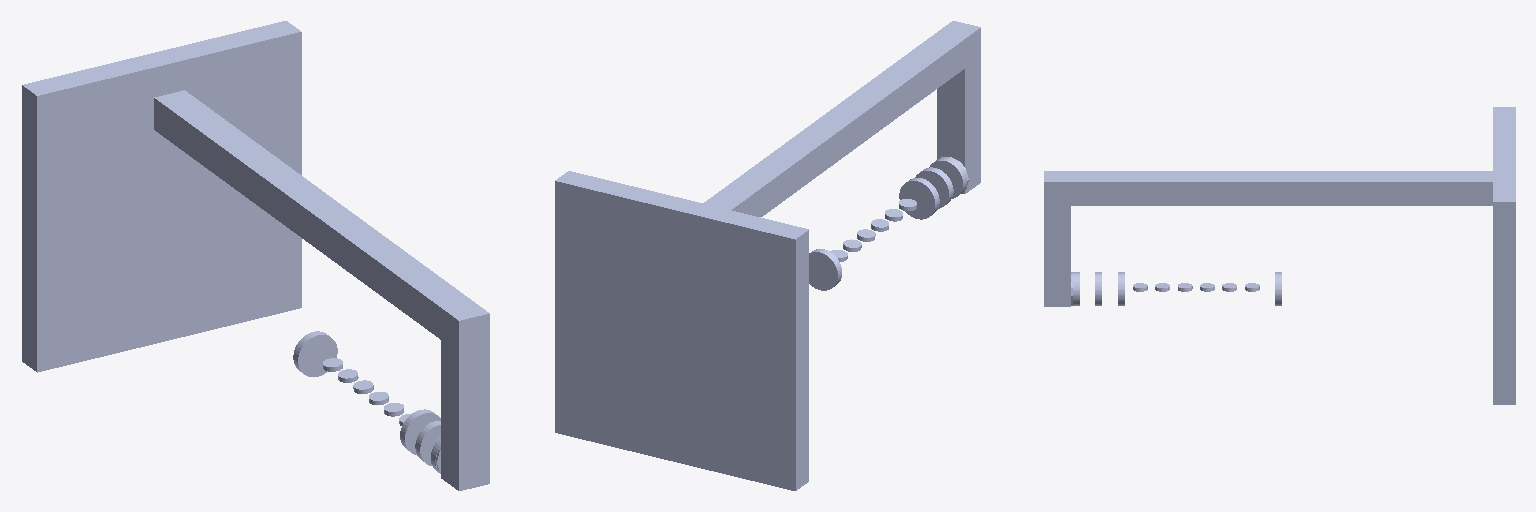
--- Render facts (derived) ---
Views: 3 orthographic renders of the robot side by side, from view 1: azimuth 30°, elevation 25°; view 2: azimuth 150°, elevation 25°; view 3: azimuth 270°, elevation 25°.
Model softactuator with 12 links and 11 joints (11 revolute), rooted at base_link, posed all joints at 0.
Visible links, largest first — view 1: base_link, sec10, sec03, sec02; view 2: base_link, sec10, sec03, sec01, sec02; view 3: base_link.
Boxes of the visible links, x1,y1,x2,y2 form: base_link: (22,21,489,490); sec10: (293,331,337,376); sec03: (400,409,440,454); sec02: (415,421,440,465); base_link: (555,21,980,490); sec10: (809,249,841,290); sec03: (899,178,939,219); sec01: (929,157,966,198); sec02: (915,167,953,208); base_link: (1044,107,1515,404).
Size in the robot's own frame: 0.3 by 0.63 by 0.3 metres.
Meshes: 12 distinct files referenced, 11 mesh visuals loaded (11 binary STL); not drawn: 1 (reference not matched to a file when rendering).

robot.urdf — softactuator:
<?xml version="1.0" encoding="utf-8"?>
<!-- This URDF was automatically created by SolidWorks to URDF Exporter! Originally created by Stephen Brawner ([email redacted]) 
     Commit Version: 1.6.0-1-g15f4949  Build Version: 1.6.7594.29634
     For more information, please see http://wiki.ros.org/sw_urdf_exporter -->
<robot
  name="softactuator">
  <link
    name="base_link">
    <inertial>
      <origin
        xyz="-1.2663E-17 0.0206 0.10996"
        rpy="0 1 0" />
      <mass
        value="3.6235" />
      <inertia
        ixx="0.15623"
        ixy="1.4868E-18"
        ixz="-4.0692E-17"
        iyy="0.15007"
        iyz="-0.016753"
        izz="0.046849" />
    </inertial>
    <visual>
      <origin
        xyz="0 0 0"
        rpy="0 0 0" />
      <geometry>
        <mesh
          filename="package://softactuator/meshes/base_link.STL" />
      </geometry>
      <material
        name="">
        <color
          rgba="0.79216 0.81961 0.93333 1" />
      </material>
    </visual>
    <collision>
      <origin
        xyz="0 0 0"
        rpy="0 0 0" />
      <geometry>
        <mesh
          filename="package://softactuator/meshes/base_link.STL" />
      </geometry>
    </collision>
  </link>
  <link
    name="sec01">
    <inertial>
      <origin
        xyz="9.10729824887824E-18 -3.46944695195361E-17 0.00475000000000003"
        rpy="0 0 0" />
      <mass
        value="0.0151090971683583" />
      <inertia
        ixx="2.02587811199071E-06"
        ixy="5.29395592033938E-23"
        ixz="3.34400831663348E-23"
        iyy="2.02587811199071E-06"
        iyz="-2.43179067269129E-24"
        izz="3.8244902207407E-06" />
    </inertial>
    <visual>
      <origin
        xyz="0 0 0"
        rpy="0 0 0" />
      <geometry>
        <mesh
          filename="package://softactuator/meshes/sec01.STL" />
      </geometry>
      <material
        name="">
        <color
          rgba="0.792156862745098 0.819607843137255 0.933333333333333 1" />
      </material>
    </visual>
    <collision>
      <origin
        xyz="0 0 0"
        rpy="0 0 0" />
      <geometry>
        <mesh
          filename="package://softactuator/meshes/sec01.STL" />
      </geometry>
    </collision>
  </link>
  <!--
    <link name="dummy" type="fixed"/>  
	<joint name="dummy_to_base_link=" type="fixed">  
	<origin
        xyz="0 0 0"
        rpy="0 0 0" />
    	<parent link="dummy"/>  
     	<child link="base_link"/>  
	</joint>
	-->

  <joint
    name="joint01"
    type="revolute">
    <origin
      xyz="0 -0.5825 -0.049051"
      rpy="1.5708 -0.072593 0" />
    <parent
      link="base_link" />
    <child
      link="sec01" />
    <axis
      xyz="0 0 1" />
      <!-- -->
    <limit
      lower="-1.57"
      upper="1.57"
      effort="100"
      velocity="500" />
  </joint>
  <link
    name="sec02">
    <inertial>
      <origin
        xyz="9.10729824887824E-18 -3.46944695195361E-17 -0.00475000000000003"
        rpy="0 0 0" />
      <mass
        value="0.0151090971683583" />
      <inertia
        ixx="2.02587811199071E-06"
        ixy="5.29395592033938E-23"
        ixz="3.34400831663348E-23"
        iyy="2.02587811199071E-06"
        iyz="-2.43179067269129E-24"
        izz="3.8244902207407E-06" />
    </inertial>
    <visual>
      <origin
        xyz="0 0 0"
        rpy="0 0 0" />
      <geometry>
        <mesh
          filename="package://softactuator/meshes/sec02.STL" />
      </geometry>
      <material
        name="">
        <color
          rgba="0.792156862745098 0.819607843137255 0.933333333333333 1" />
      </material>
    </visual>
    <collision>
      <origin
        xyz="0 0 0"
        rpy="0 0 0" />
      <geometry>
        <mesh
          filename="package://softactuator/meshes/sec02.STL" />
      </geometry>
    </collision>
  </link>
  <joint
    name="joint02"
    type="revolute">
    <origin
      xyz="0 0 -0.0205"
      rpy="0 0 0" />
    <parent
      link="sec01" />
    <child
      link="sec02" />
    <axis
      xyz="0 1 0" />
      <!-- -->
    <limit
      lower="-1.57"
      upper="1.57"
      effort="100"
      velocity="500" />
  </joint>
  <link
    name="sec03">
    <inertial>
      <origin
        xyz="9.10729824887824E-18 -3.46944695195361E-17 -0.00524999999999998"
        rpy="0 0 0" />
      <mass
        value="0.0151090971683583" />
      <inertia
        ixx="2.02587811199071E-06"
        ixy="5.29395592033938E-23"
        ixz="3.34400831663348E-23"
        iyy="2.02587811199071E-06"
        iyz="-2.43179067269129E-24"
        izz="3.8244902207407E-06" />
    </inertial>
    <visual>
      <origin
        xyz="0 0 0"
        rpy="0 0 0" />
      <geometry>
        <mesh
          filename="package://softactuator/meshes/sec03.STL" />
      </geometry>
      <material
        name="">
        <color
          rgba="0.792156862745098 0.819607843137255 0.933333333333333 1" />
      </material>
    </visual>
    <collision>
      <origin
        xyz="0 0 0"
        rpy="0 0 0" />
      <geometry>
        <mesh
          filename="package://softactuator/meshes/sec03.STL" />
      </geometry>
    </collision>
  </link>
  <joint
    name="joint03"
    type="revolute">
    <origin
      xyz="0 0 -0.0295"
      rpy="0 0 0" />
    <parent
      link="sec02" />
    <child
      link="sec03" />
    <axis
      xyz="0 1 0" />
      <!-- -->
    <limit
      lower="-1.57"
      upper="1.57"
      effort="100"
      velocity="500" />
  </joint>
  <link
    name="sec04">
    <inertial>
      <origin
        xyz="9.10729824887824E-18 -3.46944695195361E-17 -0.00474999999999998"
        rpy="0 0 0" />
      <mass
        value="0.0151090971683583" />
      <inertia
        ixx="2.02587811199071E-06"
        ixy="5.29395592033938E-23"
        ixz="-9.0526433996975E-39"
        iyy="2.02587811199071E-06"
        iyz="-2.17386507914307E-39"
        izz="3.8244902207407E-06" />
    </inertial>
    <visual>
      <origin
        xyz="0 0 0"
        rpy="0 0 0" />
      <geometry>
        <mesh
          filename="package://softactuator/meshes/sec04.STL" />
      </geometry>
      <material
        name="">
        <color
          rgba="0.792156862745098 0.819607843137255 0.933333333333333 1" />
      </material>
    </visual>
    <collision>
      <origin
        xyz="0 0 0"
        rpy="0 0 0" />
      <geometry>
        <mesh
          filename="package://softactuator/meshes/sec04.STL" />
      </geometry>
    </collision>
  </link>
  <joint
    name="joint04"
    type="revolute">
    <origin
      xyz="0 0 -0.0305"
      rpy="0 0 0" />
    <parent
      link="sec03" />
    <child
      link="sec04" />
    <axis
      xyz="0 1 0" />
      <!-- -->
    <limit
      lower="-1.57"
      upper="1.57"
      effort="100"
      velocity="500" />
  </joint>
  <link
    name="sec05">
    <inertial>
      <origin
        xyz="9.10729824887824E-18 -3.46944695195361E-17 -0.00475000000000003"
        rpy="0 0 0" />
      <mass
        value="0.0151090971683584" />
      <inertia
        ixx="2.02587811199073E-06"
        ixy="5.29395592033938E-23"
        ixz="1.80482279854177E-37"
        iyy="2.02587811199073E-06"
        iyz="-1.87114583269484E-38"
        izz="3.82449022074073E-06" />
    </inertial>
    <visual>
      <origin
        xyz="0 0 0"
        rpy="0 0 0" />
      <geometry>
        <mesh
          filename="package://softactuator/meshes/sec05.STL" />
      </geometry>
      <material
        name="">
        <color
          rgba="0.792156862745098 0.819607843137255 0.933333333333333 1" />
      </material>
    </visual>
    <collision>
      <origin
        xyz="0 0 0"
        rpy="0 0 0" />
      <geometry>
        <mesh
          filename="package://softactuator/meshes/sec05.STL" />
      </geometry>
    </collision>
  </link>
  <joint
    name="joint05"
    type="revolute">
    <origin
      xyz="0 0 -0.03"
      rpy="0 0 0" />
    <parent
      link="sec04" />
    <child
      link="sec05" />
    <axis
      xyz="0 1 0" />
      <!-- -->
    <limit
      lower="-1.57"
      upper="1.57"
      effort="100"
      velocity="500" />
  </joint>
  <link
    name="sec06">
    <inertial>
      <origin
        xyz="9.10729824887824E-18 -3.46944695195361E-17 -0.00474999999999992"
        rpy="0 0 0" />
      <mass
        value="0.0151090971683584" />
      <inertia
        ixx="2.02587811199073E-06"
        ixy="5.29395592033938E-23"
        ixz="-1.89755064553703E-37"
        iyy="2.02587811199073E-06"
        iyz="1.35103822887091E-38"
        izz="3.82449022074073E-06" />
    </inertial>
    <visual>
      <origin
        xyz="0 0 0"
        rpy="0 0 0" />
      <geometry>
        <mesh
          filename="package://softactuator/meshes/sec06.STL" />
      </geometry>
      <material
        name="">
        <color
          rgba="0.792156862745098 0.819607843137255 0.933333333333333 1" />
      </material>
    </visual>
    <collision>
      <origin
        xyz="0 0 0"
        rpy="0 0 0" />
      <geometry>
        <mesh
          filename="package://softactuator/meshes/sec06.STL" />
      </geometry>
    </collision>
  </link>
  <joint
    name="joint06"
    type="revolute">
    <origin
      xyz="0 0 -0.03"
      rpy="0 0 0" />
    <parent
      link="sec05" />
    <child
      link="sec06" />
    <axis
      xyz="0 1 0" />
      <!-- -->
    <limit
      lower="-1.57"
      upper="1.57"
      effort="100"
      velocity="500" />
  </joint>
  <link
    name="sec07">
    <inertial>
      <origin
        xyz="9.10729824887824E-18 -3.46944695195361E-17 -0.00474999999999992"
        rpy="0 0 0" />
      <mass
        value="0.0151090971683584" />
      <inertia
        ixx="2.02587811199073E-06"
        ixy="5.29395592033938E-23"
        ixz="-1.89755064553703E-37"
        iyy="2.02587811199073E-06"
        iyz="1.35103822887091E-38"
        izz="3.82449022074073E-06" />
    </inertial>
    <visual>
      <origin
        xyz="0 0 0"
        rpy="0 0 0" />
      <geometry>
        <mesh
          filename="package://softactuator/meshes/sec07.STL" />
      </geometry>
      <material
        name="">
        <color
          rgba="0.792156862745098 0.819607843137255 0.933333333333333 1" />
      </material>
    </visual>
    <collision>
      <origin
        xyz="0 0 0"
        rpy="0 0 0" />
      <geometry>
        <mesh
          filename="package://softactuator/meshes/sec07.STL" />
      </geometry>
    </collision>
  </link>
  <joint
    name="joint07"
    type="revolute">
    <origin
      xyz="0 0 -0.03"
      rpy="0 0 0" />
    <parent
      link="sec06" />
    <child
      link="sec07" />
    <axis
      xyz="0 1 0" />
      <!-- -->
    <limit
      lower="-1.57"
      upper="1.57"
      effort="100"
      velocity="500" />
  </joint>
  <link
    name="sec08">
    <inertial>
      <origin
        xyz="9.10729824887824E-18 -3.46944695195361E-17 -0.00474999999999992"
        rpy="0 0 0" />
      <mass
        value="0.0151090971683584" />
      <inertia
        ixx="2.02587811199073E-06"
        ixy="5.29395592033938E-23"
        ixz="-1.89755064553703E-37"
        iyy="2.02587811199073E-06"
        iyz="1.35103822887091E-38"
        izz="3.82449022074073E-06" />
    </inertial>
    <visual>
      <origin
        xyz="0 0 0"
        rpy="0 0 0" />
      <geometry>
        <mesh
          filename="package://softactuator/meshes/sec08.STL" />
      </geometry>
      <material
        name="">
        <color
          rgba="0.792156862745098 0.819607843137255 0.933333333333333 1" />
      </material>
    </visual>
    <collision>
      <origin
        xyz="0 0 0"
        rpy="0 0 0" />
      <geometry>
        <mesh
          filename="package://softactuator/meshes/sec08.STL" />
      </geometry>
    </collision>
  </link>
  <joint
    name="joint08"
    type="revolute">
    <origin
      xyz="0 0 -0.03"
      rpy="0 0 0" />
    <parent
      link="sec07" />
    <child
      link="sec08" />
    <axis
      xyz="0 1 0" />
      <!-- -->
    <limit
      lower="-1.57"
      upper="1.57"
      effort="100"
      velocity="500" />
  </joint>
  <link
    name="sec09">
    <inertial>
      <origin
        xyz="9.10729824887824E-18 -3.46944695195361E-17 -0.00474999999999998"
        rpy="0 0 0" />
      <mass
        value="0.0151090971683584" />
      <inertia
        ixx="2.02587811199073E-06"
        ixy="5.29395592033938E-23"
        ixz="1.80482279854177E-37"
        iyy="2.02587811199073E-06"
        iyz="-1.87114583269484E-38"
        izz="3.82449022074073E-06" />
    </inertial>
    <visual>
      <origin
        xyz="0 0 0"
        rpy="0 0 0" />
      <geometry>
        <mesh
          filename="package://softactuator/meshes/sec09.STL" />
      </geometry>
      <material
        name="">
        <color
          rgba="0.792156862745098 0.819607843137255 0.933333333333333 1" />
      </material>
    </visual>
    <collision>
      <origin
        xyz="0 0 0"
        rpy="0 0 0" />
      <geometry>
        <mesh
          filename="package://softactuator/meshes/sec09.STL" />
      </geometry>
    </collision>
  </link>
  <joint
    name="joint09"
    type="revolute">
    <origin
      xyz="0 0 -0.03"
      rpy="0 0 0" />
    <parent
      link="sec08" />
    <child
      link="sec09" />
    <axis
      xyz="0 1 0" />
      <!-- -->
    <limit
      lower="-1.57"
      upper="1.57"
      effort="100"
      velocity="500" />
  </joint>
  <link
    name="sec10">
    <inertial>
      <origin
        xyz="9.10729824887824E-18 -3.46944695195361E-17 -0.00474999999999992"
        rpy="0 0 0" />
      <mass
        value="0.0151090971683584" />
      <inertia
        ixx="2.02587811199073E-06"
        ixy="5.29395592033938E-23"
        ixz="-1.89755064553703E-37"
        iyy="2.02587811199073E-06"
        iyz="1.35103822887091E-38"
        izz="3.82449022074073E-06" />
    </inertial>
    <visual>
      <origin
        xyz="0 0 0"
        rpy="0 0 0" />
      <geometry>
        <mesh
          filename="package://softactuator/meshes/sec10.STL" />
      </geometry>
      <material
        name="">
        <color
          rgba="0.792156862745098 0.819607843137255 0.933333333333333 1" />
      </material>
    </visual>
    <collision>
      <origin
        xyz="0 0 0"
        rpy="0 0 0" />
      <geometry>
        <mesh
          filename="package://softactuator/meshes/sec10.STL" />
      </geometry>
    </collision>
  </link>
  <joint
    name="joint10"
    type="revolute">
    <origin
      xyz="0 0 -0.03"
      rpy="0 0 0" />
    <parent
      link="sec09" />
    <child
      link="sec10" />
    <axis
      xyz="0 1 0" />
      <!-- -->
    <limit
      lower="-1.57"
      upper="1.57"
      effort="100"
      velocity="500" />
  </joint>
  <link
    name="sec11">
    <inertial>
      <origin
        xyz="9.10729824887824E-18 -3.46944695195361E-17 -0.00474999999999992"
        rpy="0 0 0" />
      <mass
        value="0.0151090971683584" />
      <inertia
        ixx="2.02587811199073E-06"
        ixy="5.29395592033938E-23"
        ixz="-1.89755064553703E-37"
        iyy="2.02587811199073E-06"
        iyz="1.35103822887091E-38"
        izz="3.82449022074073E-06" />
    </inertial>
    <visual>
      <origin
        xyz="0 0 0"
        rpy="0 0 0" />
      <geometry>
        <mesh
          filename="package://softactuator/meshes/sec11.STL" />
      </geometry>
      <material
        name="">
        <color
          rgba="0.792156862745098 0.819607843137255 0.933333333333333 1" />
      </material>
    </visual>
    <collision>
      <origin
        xyz="0 0 0"
        rpy="0 0 0" />
      <geometry>
        <mesh
          filename="package://softactuator/meshes/sec11.STL" />
      </geometry>
    </collision>
  </link>
  <joint
    name="joint11"
    type="revolute">
    <origin
      xyz="0 0 -0.03"
      rpy="0 0 0" />
    <parent
      link="sec10" />
    <child
      link="sec11" />
    <axis
      xyz="0 1 0" />
      <!-- -->
    <limit
      lower="-1.57"
      upper="1.57"
      effort="100"
      velocity="500" />
  </joint>
    
  

<!--transmission definition -->
<transmission name="tran01">
    <type>transmission_interface/SimpleTransmission</type>
    <joint name="joint01">
      <hardwareInterface>hardware_interface/EffortJointInterface</hardwareInterface>
    </joint>
    <actuator name="motor01">
      <hardwareInterface>hardware_interface/EffortJointInterface</hardwareInterface>
      <mechanicalReduction>1</mechanicalReduction>
    </actuator>
  </transmission>
  
  <transmission name="tran02">
    <type>transmission_interface/SimpleTransmission</type>
    <joint name="joint02">
      <hardwareInterface>hardware_interface/EffortJointInterface</hardwareInterface>
    </joint>
    <actuator name="motor02">
      <hardwareInterface>hardware_interface/EffortJointInterface</hardwareInterface>
      <mechanicalReduction>1</mechanicalReduction>
    </actuator>
  </transmission>
  
  <transmission name="tran03">
    <type>transmission_interface/SimpleTransmission</type>
    <joint name="joint03">
      <hardwareInterface>hardware_interface/EffortJointInterface</hardwareInterface>
    </joint>
    <actuator name="motor03">
      <hardwareInterface>hardware_interface/EffortJointInterface</hardwareInterface>
      <mechanicalReduction>1</mechanicalReduction>
    </actuator>
  </transmission>
  
  <transmission name="tran04">
    <type>transmission_interface/SimpleTransmission</type>
    <joint name="joint04">
      <hardwareInterface>hardware_interface/EffortJointInterface</hardwareInterface>
    </joint>
    <actuator name="motor04">
      <hardwareInterface>hardware_interface/EffortJointInterface</hardwareInterface>
      <mechanicalReduction>1</mechanicalReduction>
    </actuator>
  </transmission>
  
  <transmission name="tran05">
    <type>transmission_interface/SimpleTransmission</type>
    <joint name="joint05">
      <hardwareInterface>hardware_interface/EffortJointInterface</hardwareInterface>
    </joint>
    <actuator name="motor05">
      <hardwareInterface>hardware_interface/EffortJointInterface</hardwareInterface>
      <mechanicalReduction>1</mechanicalReduction>
    </actuator>
  </transmission>
  
  <transmission name="tran06">
    <type>transmission_interface/SimpleTransmission</type>
    <joint name="joint06">
      <hardwareInterface>hardware_interface/EffortJointInterface</hardwareInterface>
    </joint>
    <actuator name="motor06">
      <hardwareInterface>hardware_interface/EffortJointInterface</hardwareInterface>
      <mechanicalReduction>1</mechanicalReduction>
    </actuator>
  </transmission>
  
  <transmission name="tran07">
    <type>transmission_interface/SimpleTransmission</type>
    <joint name="joint07">
      <hardwareInterface>hardware_interface/EffortJointInterface</hardwareInterface>
    </joint>
    <actuator name="motor07">
      <hardwareInterface>hardware_interface/EffortJointInterface</hardwareInterface>
      <mechanicalReduction>1</mechanicalReduction>
    </actuator>
  </transmission>
  
  <transmission name="tran08">
    <type>transmission_interface/SimpleTransmission</type>
    <joint name="joint08">
      <hardwareInterface>hardware_interface/EffortJointInterface</hardwareInterface>
    </joint>
    <actuator name="motor08">
      <hardwareInterface>hardware_interface/EffortJointInterface</hardwareInterface>
      <mechanicalReduction>1</mechanicalReduction>
    </actuator>
  </transmission>
  
  <transmission name="tran09">
    <type>transmission_interface/SimpleTransmission</type>
    <joint name="joint09">
      <hardwareInterface>hardware_interface/EffortJointInterface</hardwareInterface>
    </joint>
    <actuator name="motor09">
      <hardwareInterface>hardware_interface/EffortJointInterface</hardwareInterface>
      <mechanicalReduction>1</mechanicalReduction>
    </actuator>
  </transmission>
  
  <transmission name="tran10">
    <type>transmission_interface/SimpleTransmission</type>
    <joint name="joint10">
      <hardwareInterface>hardware_interface/EffortJointInterface</hardwareInterface>
    </joint>
    <actuator name="motor10">
      <hardwareInterface>hardware_interface/EffortJointInterface</hardwareInterface>
      <mechanicalReduction>1</mechanicalReduction>
    </actuator>
  </transmission>
  
  <transmission name="tran11">
    <type>transmission_interface/SimpleTransmission</type>
    <joint name="joint11">
      <hardwareInterface>hardware_interface/EffortJointInterface</hardwareInterface>
    </joint>
    <actuator name="motor11">
      <hardwareInterface>hardware_interface/EffortJointInterface</hardwareInterface>
      <mechanicalReduction>1</mechanicalReduction>
    </actuator>
  </transmission>
  
      <!--cointrol pluging -->
  <gazebo>
  <plugin name="gazebo_ros_control" filename="libgazebo_ros_control.so">

  </plugin>
</gazebo>

<!--
<gazebo reference="sec01">
   <turnGravityOff>true</turnGravityOff>
</gazebo>

<gazebo reference="sec02">
   <turnGravityOff>true</turnGravityOff>
</gazebo>

<gazebo reference="sec03">
   <turnGravityOff>true</turnGravityOff>
</gazebo>

<gazebo reference="sec04">
   <turnGravityOff>true</turnGravityOff>
</gazebo>

<gazebo reference="sec05">
   <turnGravityOff>true</turnGravityOff>
</gazebo>

<gazebo reference="sec06">
   <turnGravityOff>true</turnGravityOff>
</gazebo>

<gazebo reference="sec07">
   <turnGravityOff>true</turnGravityOff>
</gazebo>

<gazebo reference="sec08">
   <turnGravityOff>true</turnGravityOff>
</gazebo>

<gazebo reference="sec09">
   <turnGravityOff>true</turnGravityOff>
</gazebo>

<gazebo reference="sec10">
   <turnGravityOff>true</turnGravityOff>
</gazebo>

<gazebo reference="sec11">
   <turnGravityOff>true</turnGravityOff>
</gazebo>

-->

<!--
<gazebo>
    <plugin name="JointStiffnessPlugin" filename="libsoftactuator.so">
      <joint_name>joint01</joint_name>
      <stiffness>1.11</stiffness>
      <damping>2.8</damping>
    </plugin>
    </gazebo>

    <gazebo>
    <plugin name="JointStiffnessPlugin" filename="libsoftactuator.so">
      <joint_name>joint02</joint_name>
      <stiffness>1.11</stiffness>
      <damping>2.8</damping>
    </plugin>
    </gazebo>

    <gazebo>
    <plugin name="JointStiffnessPlugin" filename="libsoftactuator.so">
      <joint_name>joint03</joint_name>
      <stiffness>1.11</stiffness>
      <damping>2.8</damping>
    </plugin>
    </gazebo>

    <gazebo>
    <plugin name="JointStiffnessPlugin" filename="libsoftactuator.so">
      <joint_name>joint04</joint_name>
      <stiffness>1.11</stiffness>
      <damping>2.8</damping>
    </plugin>
    </gazebo>

    <gazebo>
    <plugin name="JointStiffnessPlugin" filename="libsoftactuator.so">
      <joint_name>joint05</joint_name>
      <stiffness>1.11</stiffness>
      <damping>2.8</damping>
    </plugin>
    </gazebo>

    <gazebo>
    <plugin name="JointStiffnessPlugin" filename="libsoftactuator.so">
      <joint_name>joint06</joint_name>
      <stiffness>1.11</stiffness>
      <damping>2.8</damping>
    </plugin>
    </gazebo>

    <gazebo>
    <plugin name="JointStiffnessPlugin" filename="libsoftactuator.so">
      <joint_name>joint07</joint_name>
      <stiffness>1.11</stiffness>
      <damping>2.8</damping>
    </plugin>
    </gazebo>

    <gazebo>
    <plugin name="JointStiffnessPlugin" filename="libsoftactuator.so">
      <joint_name>joint08</joint_name>
      <stiffness>1.11</stiffness>
      <damping>2.8</damping>
    </plugin>
    </gazebo>

    <gazebo>
    <plugin name="JointStiffnessPlugin" filename="libsoftactuator.so">
      <joint_name>joint09</joint_name>
      <stiffness>1.11</stiffness>
      <damping>2.8</damping>
    </plugin>
    </gazebo>

    <gazebo>
    <plugin name="JointStiffnessPlugin" filename="libsoftactuator.so">
      <joint_name>joint10</joint_name>
      <stiffness>1.11</stiffness>
      <damping>2.8</damping>
    </plugin>
    </gazebo>

    <gazebo>
    <plugin name="JointStiffnessPlugin" filename="libsoftactuator.so">
      <joint_name>joint11</joint_name>
      <stiffness>1.11</stiffness>
      <damping>2.8</damping>
    </plugin>
    </gazebo>-->

    <!--
      <gazebo>
  <plugin name="JointStiffnessPlugin" filename="libsoftactuator.so">
      <joint_name>joint02</joint_name>
      <stiffness>1.11</stiffness>
      <damping>2.8</damping>
       
      <joint_name>joint03</joint_name>
      <stiffness>1.11</stiffness>
      <damping>2.8</damping>
    
      <joint_name>joint04</joint_name>
      <stiffness>1.11</stiffness>
      <damping>2.8</damping>

      <joint_name>joint05</joint_name>
      <stiffness>1.11</stiffness>
      <damping>2.8</damping>

      <joint_name>joint06</joint_name>
      <stiffness>1.11</stiffness>
      <damping>2.8</damping>

      <joint_name>joint07</joint_name>
      <stiffness>1.11</stiffness>
      <damping>2.8</damping>

      <joint_name>joint08</joint_name>
      <stiffness>1.11</stiffness>
      <damping>2.8</damping>

      <joint_name>joint09</joint_name>
      <stiffness>1.11</stiffness>
      <damping>2.8</damping>

      <joint_name>joint10</joint_name>
      <stiffness>1.11</stiffness>
      <damping>2.8</damping>

      <joint_name>joint11</joint_name>
      <stiffness>1.11</stiffness>
      <damping>2.8</damping>
    </plugin>
</gazebo>-->
  


<gazebo>
  <plugin name="JointStiffnessPlugin" filename="libsoftactuator.so">
  <joint>
    <name>joint02</name>
    <stiffness>1.11</stiffness>
    <damping>2.8</damping>
    <friction>0.03</friction>
  </joint>
  <joint>
    <name>joint03</name>
    <stiffness>1.11</stiffness>
    <damping>2.8</damping>
    <friction>0.03</friction>
  </joint>
  <joint>
    <name>joint04</name>
    <stiffness>1.11</stiffness>
    <damping>2.8</damping>
    <friction>0.03</friction>
  </joint>
  <joint>
    <name>joint05</name>
    <stiffness>1.11</stiffness>
    <damping>2.8</damping>
    <friction>0.03</friction>
  </joint>
  <joint>
    <name>joint06</name>
    <stiffness>1.11</stiffness>
    <damping>2.8</damping>
    <friction>0.03</friction>
  </joint>
  <joint>
    <name>joint07</name>
    <stiffness>1.11</stiffness>
    <damping>2.8</damping>
    <friction>0.03</friction>
  </joint>

  <joint>
    <name>joint08</name>
    <stiffness>1.11</stiffness>
    <damping>2.8</damping>
    <friction>0.03</friction>
  </joint>

  <joint>
    <name>joint09</name>
    <stiffness>1.11</stiffness>
    <damping>2.8</damping>
    <friction>0.03</friction>
  </joint>

  <joint>
    <name>joint10</name>
    <stiffness>1.11</stiffness>
    <damping>2.8</damping>
    <friction>0.03</friction>
  </joint>

  <joint>
    <name>joint11</name>
    <stiffness>1.11</stiffness>
    <damping>2.8</damping>
    <friction>0.03</friction>
  </joint>
  </plugin>
</gazebo>


</robot>
